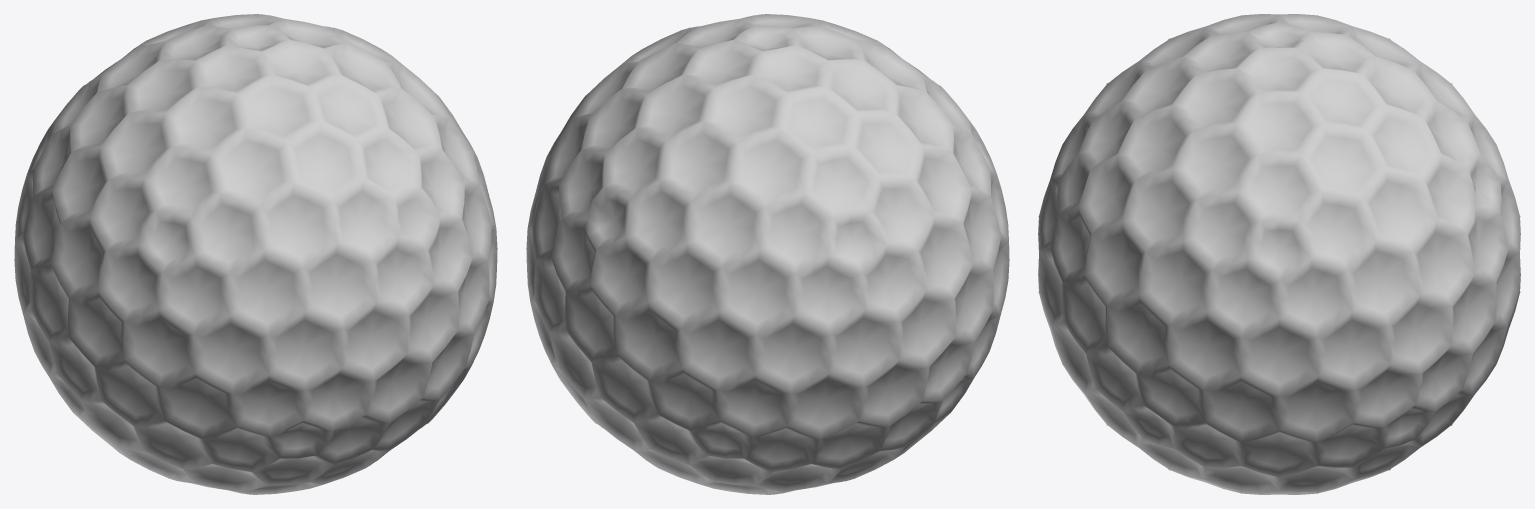
The model's file is golfBall.fbx.
3 renders of one model, left to right at view 1: azimuth 30°, elevation 25°; view 2: azimuth 150°, elevation 25°; view 3: azimuth 270°, elevation 25°, orthographic.
Parts seen in each view (by area): view 1: golfBall; view 2: golfBall; view 3: golfBall.
Boxes of the visible parts, x1,y1,x2,y2 form: golfBall: (14, 14, 497, 494); golfBall: (526, 14, 1009, 494); golfBall: (1038, 14, 1520, 494).
Size of the model in its own units: 1 by 1 by 1.
1 material, 1 textured.
